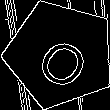O_NE: (26, 21, 94, 88)
